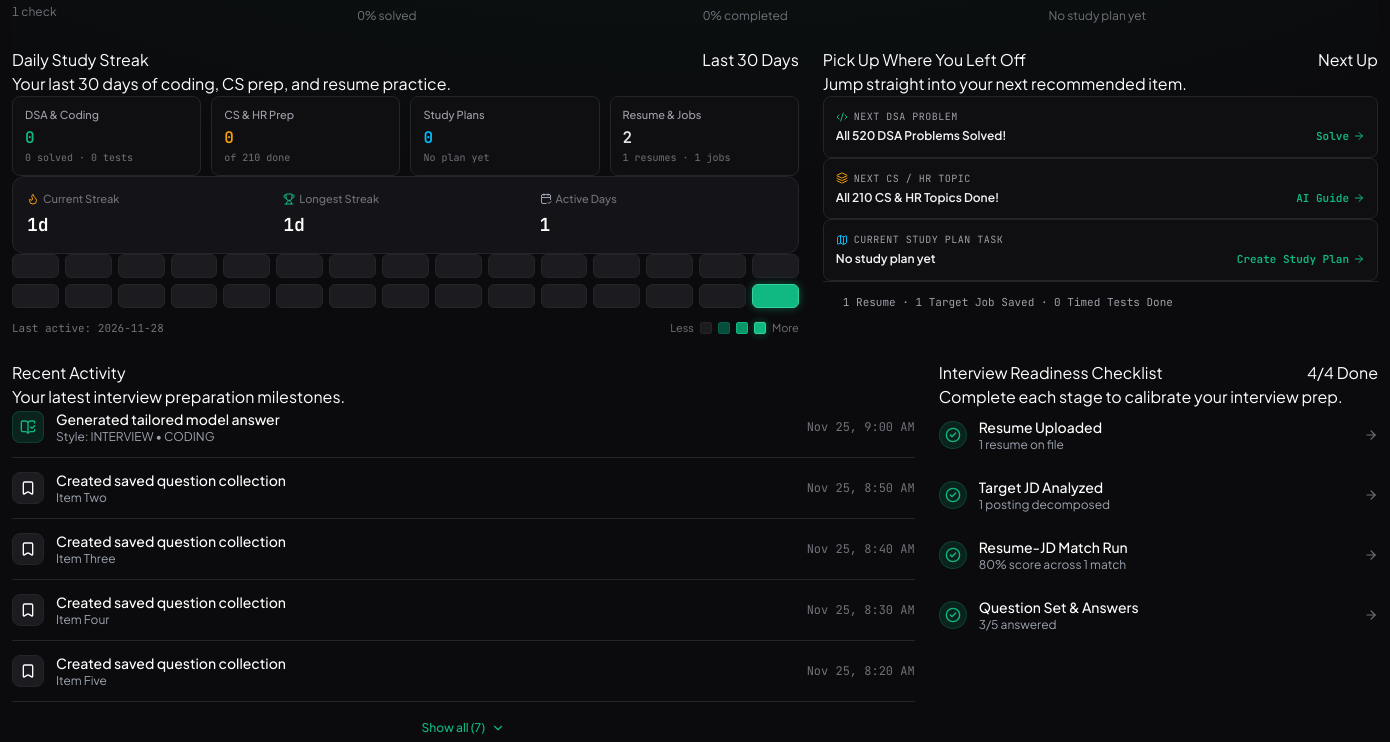
Candidate Dashboard Page & Widgets (Phase F4) › 4. caps Recent Activity to 5 items by default, enriches ANSWER_GENERATED subtitles, and expands on Show all
(page scrolled)
Expected: the text "Style: INTERVIEW • CODING" is shown, [56,428,214,444]
Expected: the text "Item Five" is shown, [56,672,107,688]
Click the button "Show all (7)" at (463, 728), box [410,714,517,741]
(page scrolled)
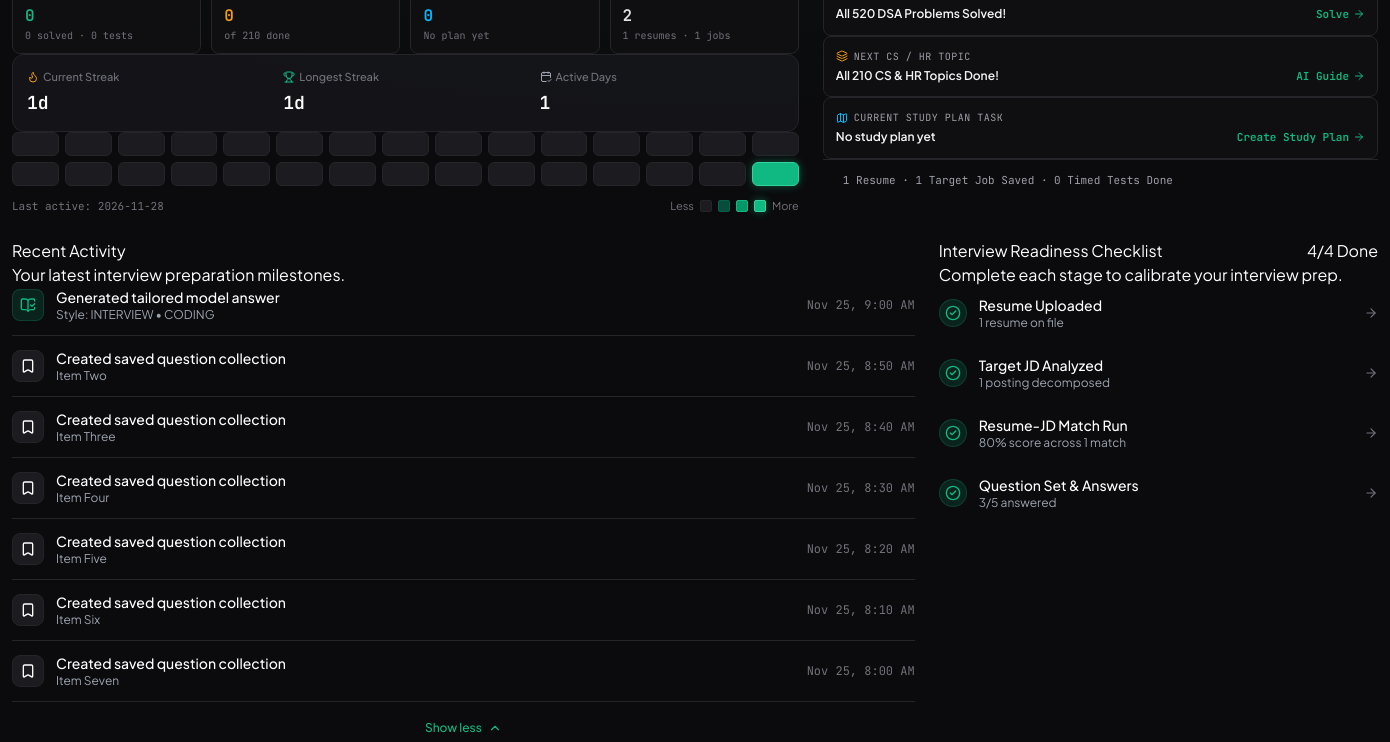
Now the text "Item Six" is shown, box [56,612,100,626]
Now the text "Item Seven" is shown, box [56,672,119,688]
Now the button "Show less" is shown, box [413,714,514,741]
